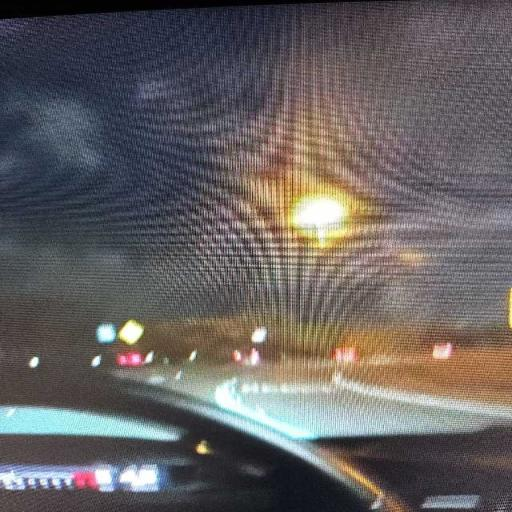car: (0, 0, 511, 511), (232, 347, 260, 366), (332, 347, 357, 363), (432, 343, 453, 359)
lane: (130, 365, 511, 437)
